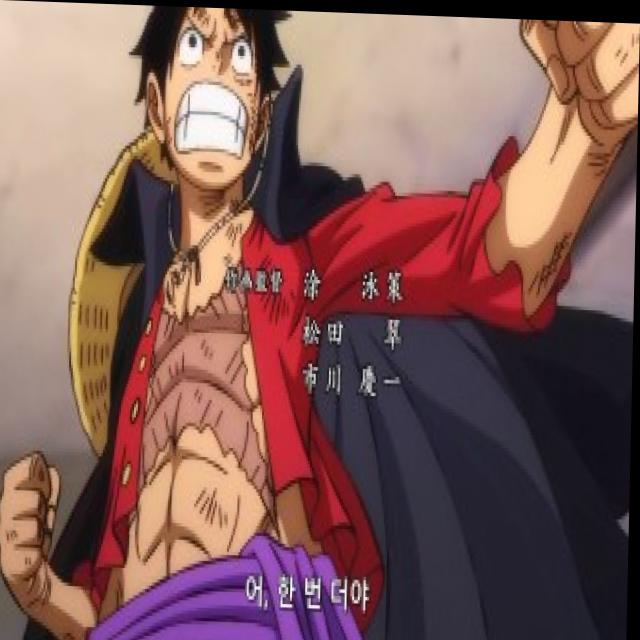Luffy: (65, 2, 405, 401)
